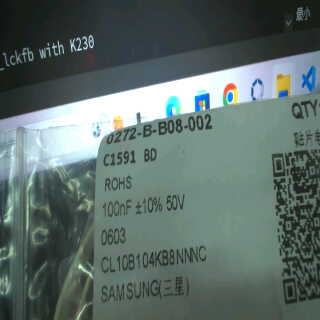100nF: (101, 197, 136, 221)
